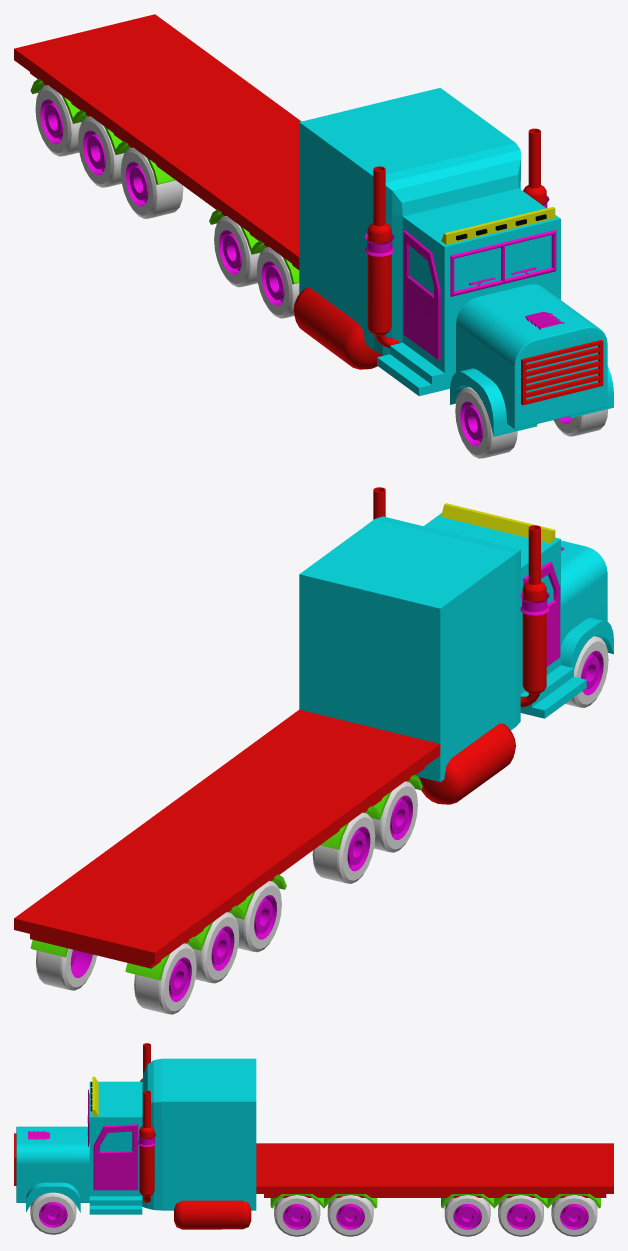
The model's file is Truck High-Poly Final Colour ID Moved.fbx.
3 renders of one model, top to bottom at view 1: azimuth 30°, elevation 25°; view 2: azimuth 150°, elevation 25°; view 3: azimuth 270°, elevation 25°, orthographic. The views are drawn at different scales.
Parts seen in each view (by area): view 1: Truck_high; view 2: Truck_high; view 3: Truck_high.
Part boxes in pixels (left/top/right/bottom): Truck_high: left=14, top=14, right=613, bottom=458; Truck_high: left=14, top=487, right=613, bottom=1014; Truck_high: left=14, top=1043, right=613, bottom=1236.
Size of the model in its own units: 1.98 by 2.5 by 9.07.
